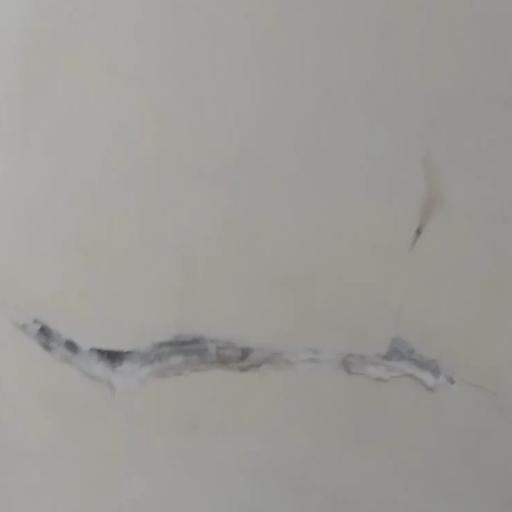stain: (19, 302, 487, 415), (384, 157, 482, 265)
